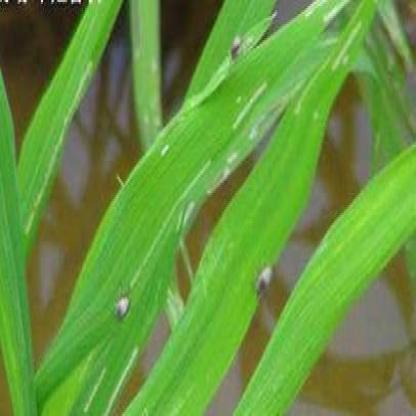rice-bug: (256, 263, 276, 294), (230, 32, 246, 62), (116, 292, 132, 317)
